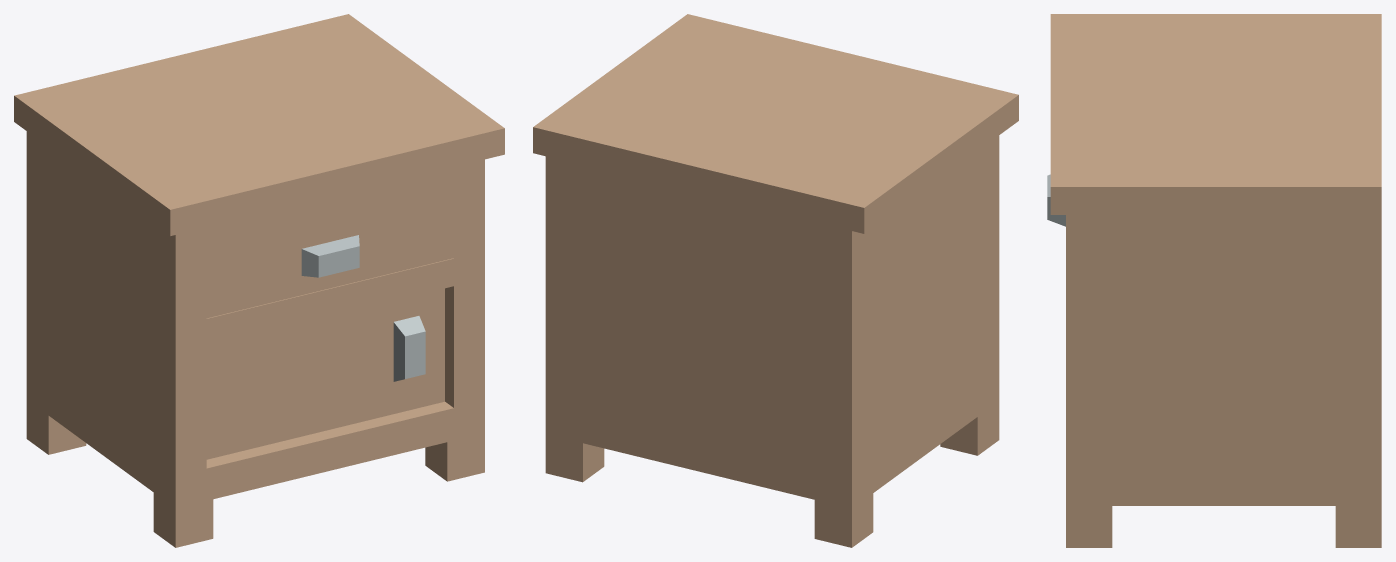
File: cabinetBedDrawer.glb
3 renders of one model, left to right at view 1: azimuth 30°, elevation 25°; view 2: azimuth 150°, elevation 25°; view 3: azimuth 270°, elevation 25°, orthographic. The views are drawn at different scales.
Parts seen in each view (by area): view 1: cabinetBedDrawer; view 2: cabinetBedDrawer; view 3: cabinetBedDrawer.
Part boxes in pixels (bbox=[...]): cabinetBedDrawer: bbox=[14, 14, 504, 547]; cabinetBedDrawer: bbox=[533, 14, 1018, 547]; cabinetBedDrawer: bbox=[1047, 14, 1381, 547].
Size of the model in its own units: 0.266 by 0.2632 by 0.2173.
